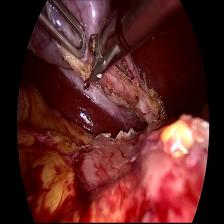Clipper: (76, 8, 135, 99)
Grasper: (36, 0, 87, 59)
